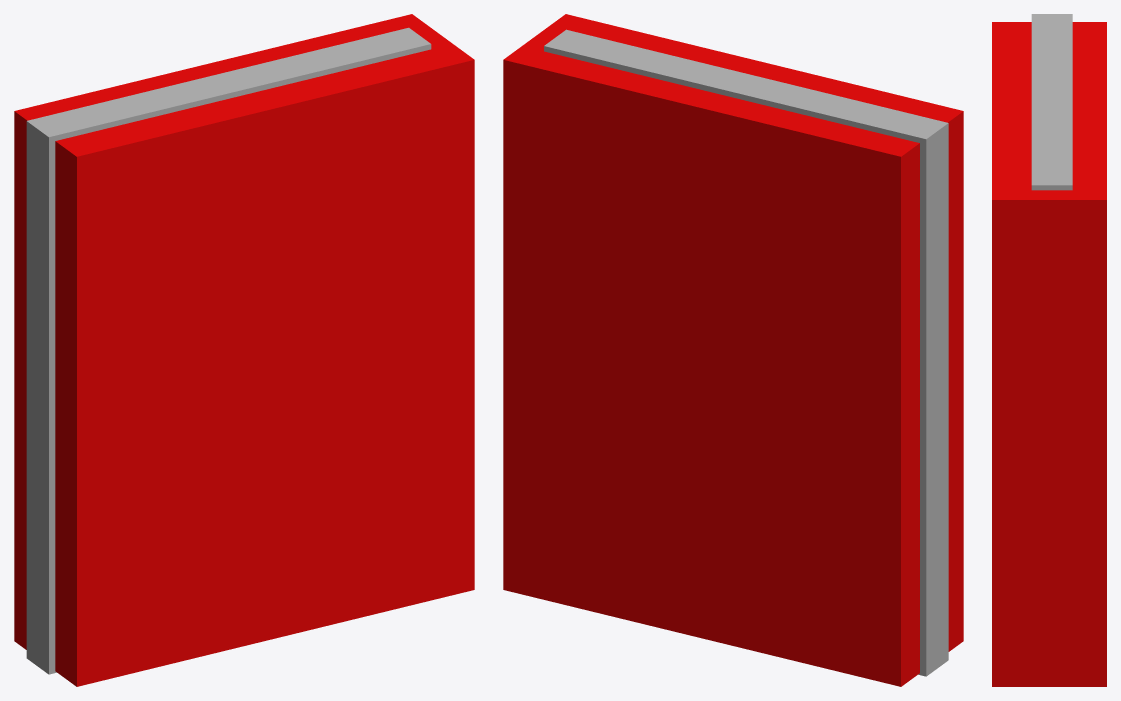
Rendered from book.fbx.
3 renders of one model, left to right at view 1: azimuth 30°, elevation 25°; view 2: azimuth 150°, elevation 25°; view 3: azimuth 270°, elevation 25°, orthographic. The views are drawn at different scales.
Visible parts, largest first — view 1: Box077, Box076; view 2: Box077, Box076; view 3: Box077, Box076.
Boxes of the visible parts, x1,y1,x2,y2 form: Box077: [14, 14, 474, 686]; Box076: [26, 27, 431, 674]; Box077: [503, 14, 963, 686]; Box076: [544, 29, 948, 676]; Box077: [992, 22, 1106, 686]; Box076: [1031, 14, 1072, 190].
Bounding box in the file's own units: 4.52 × 5.74 × 1.21.
